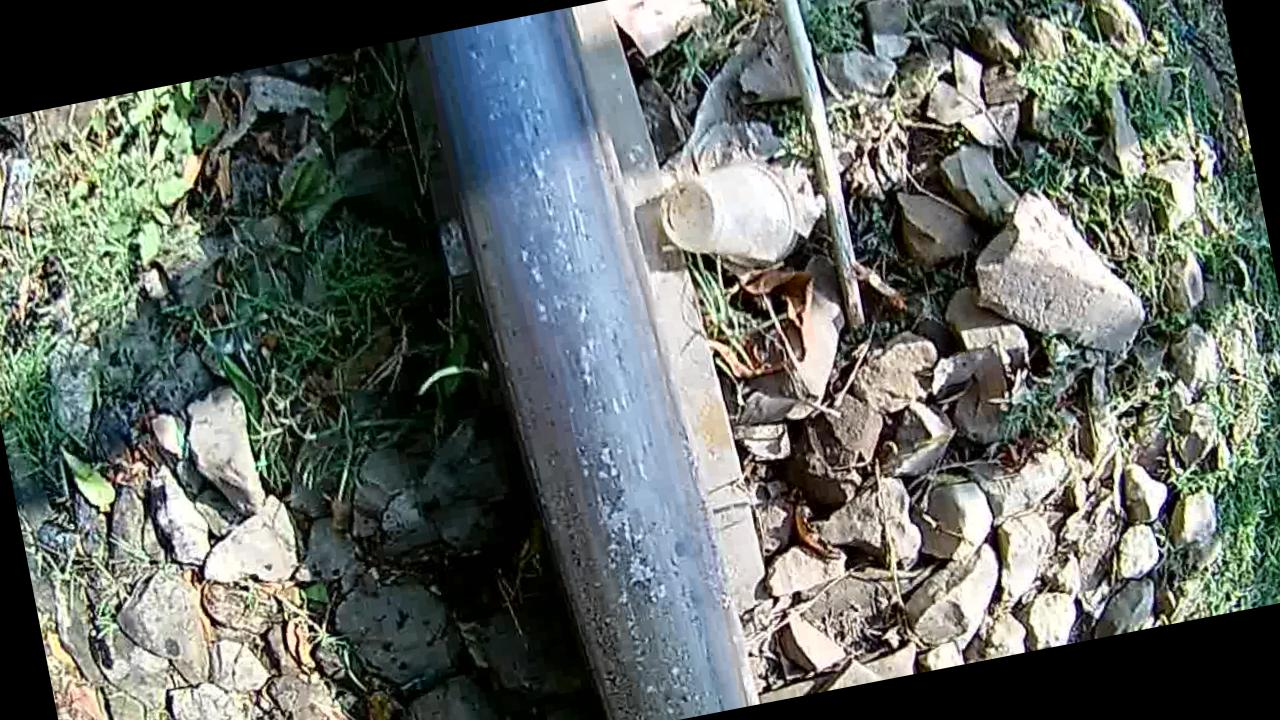clip_missing: (417, 0, 759, 720)
